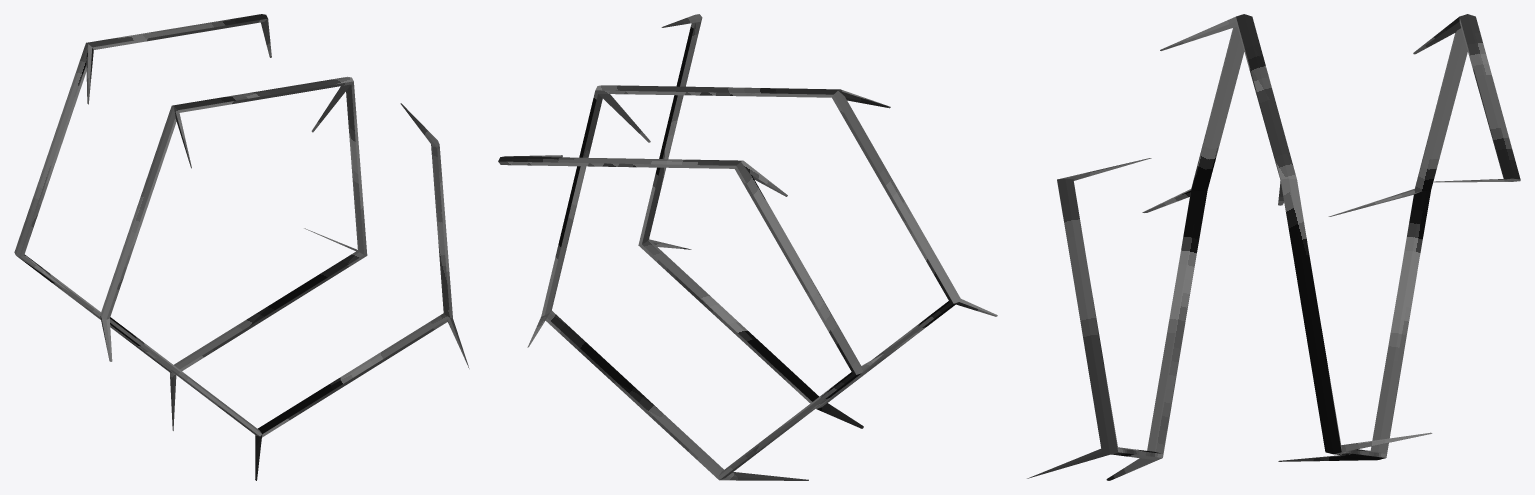
File: wire.glb
3 renders of one model, left to right at view 1: azimuth 30°, elevation 25°; view 2: azimuth 150°, elevation 25°; view 3: azimuth 270°, elevation 25°, orthographic. The views are drawn at different scales.
Visible parts, largest first — view 1: single; view 2: single; view 3: single.
Part boxes in pixels (<box>): single: <box>14,14,469,480</box>; single: <box>498,14,997,480</box>; single: <box>1027,14,1520,480</box>.
Bounding box in the file's own units: 2.5 × 2.5 × 2.5.
Materials: 1 (1 with a texture image).
